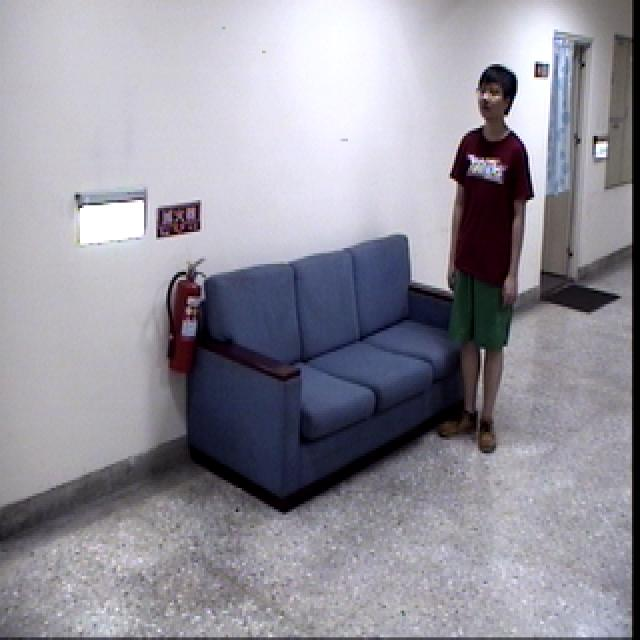stand: (429, 56, 548, 461)
